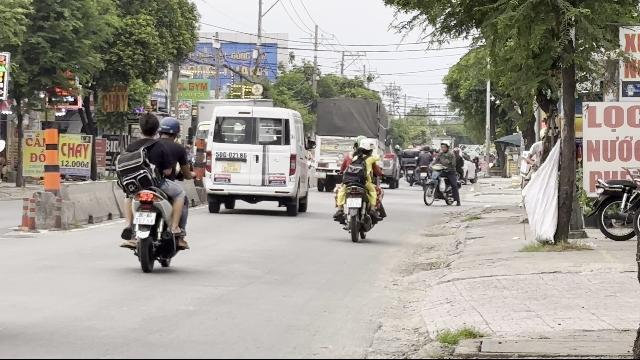helmet: (157, 116, 180, 140), (357, 138, 375, 156)
licenseplate: (134, 212, 154, 224), (346, 198, 362, 207)
motorcyclist: (112, 111, 192, 271), (330, 134, 386, 240)
nohelmet: (136, 112, 160, 138)
